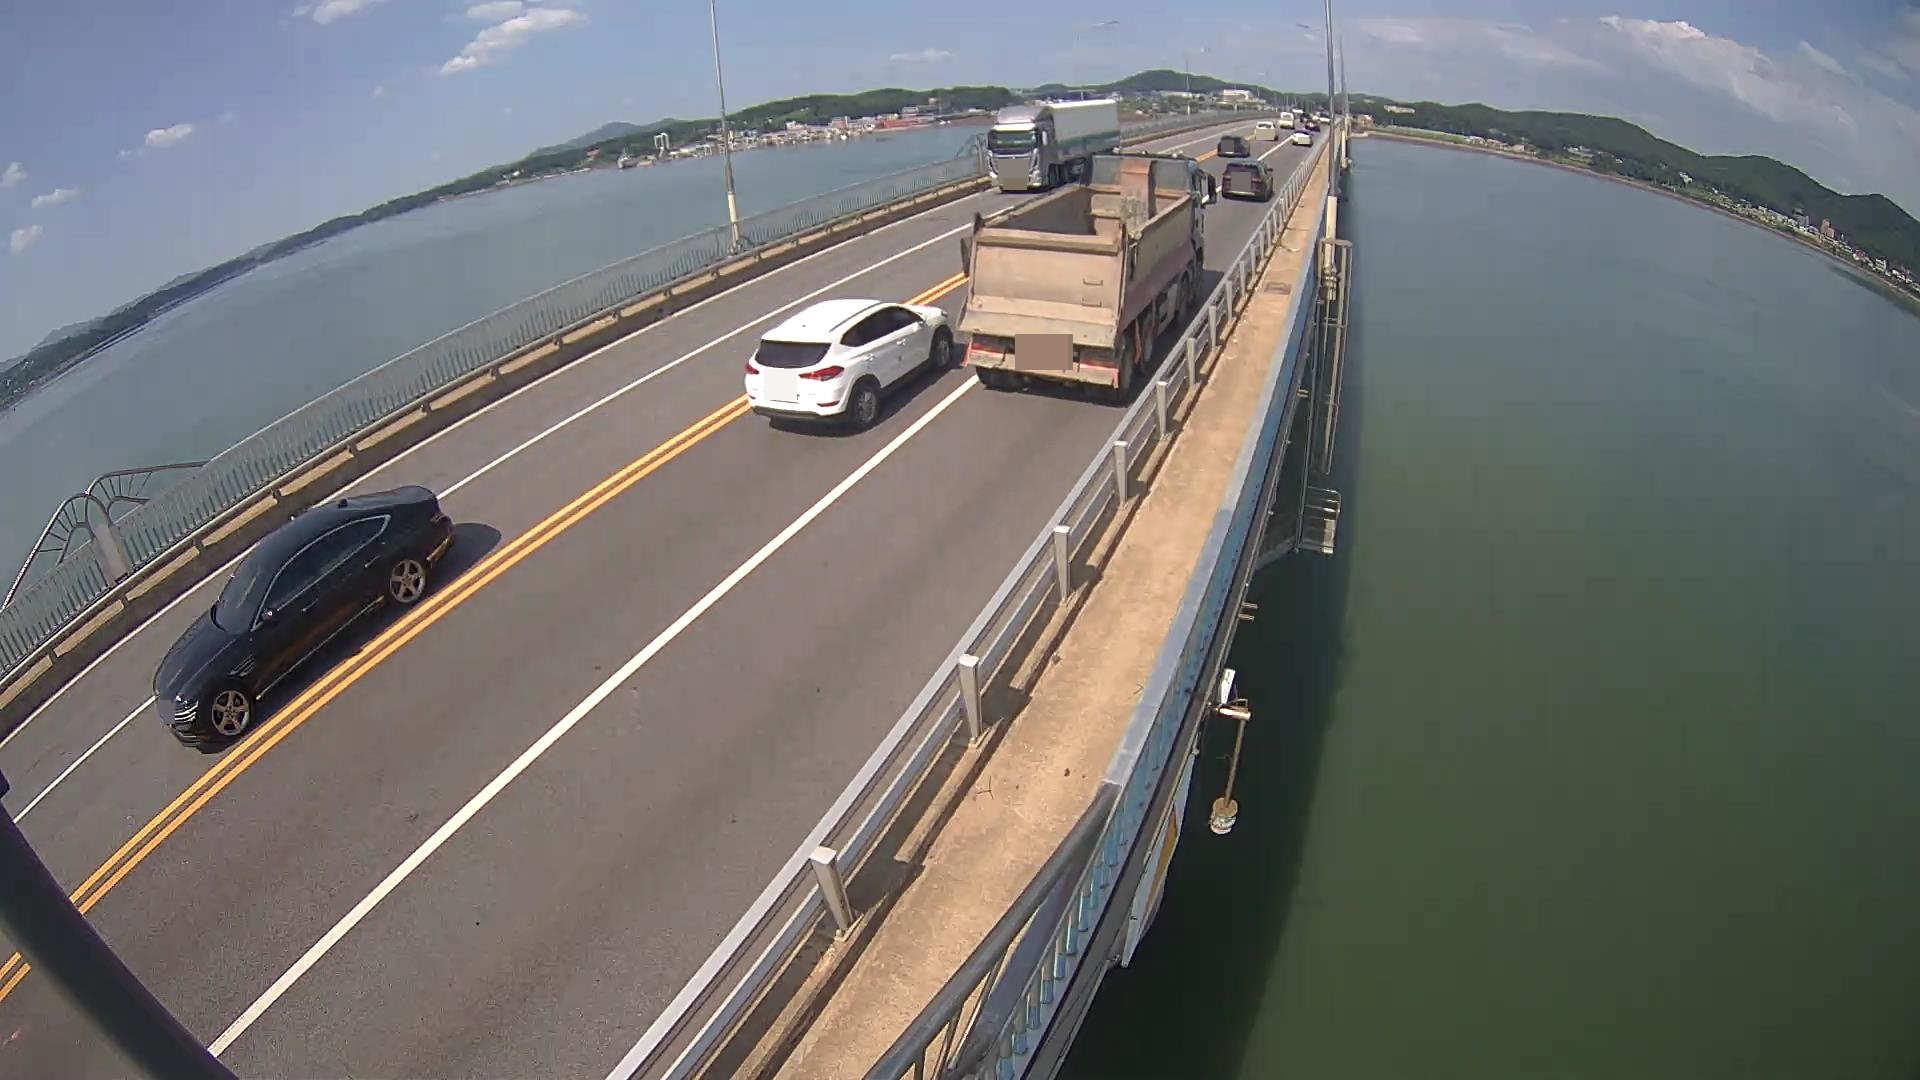정상차량: (953, 150, 1217, 402)
